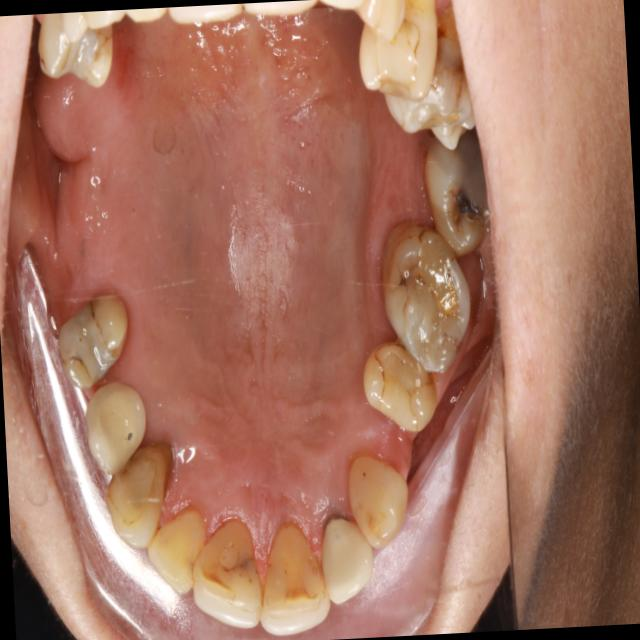tooth: (372, 213, 477, 397), (85, 426, 196, 569), (135, 482, 234, 634), (182, 503, 283, 640), (49, 273, 145, 407), (251, 506, 345, 640), (74, 373, 168, 493), (352, 330, 445, 446), (340, 439, 420, 563), (421, 136, 493, 270), (310, 505, 391, 617)
